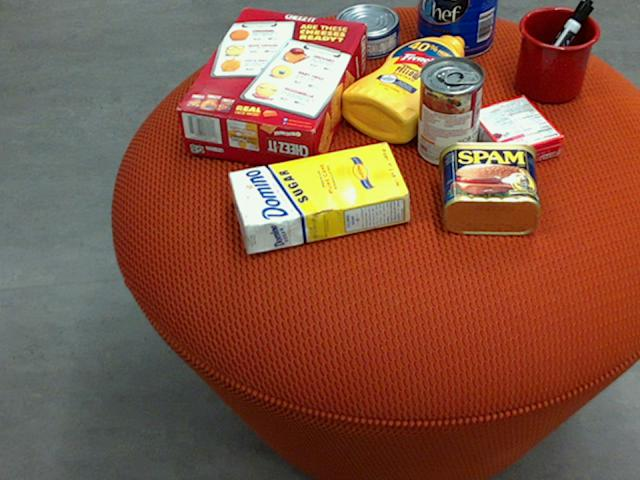cracker_box: (174, 7, 367, 173)
gelatin_box: (469, 96, 565, 170)
large_marker: (523, 0, 593, 91)
master_chef_can: (416, 0, 498, 56)
mug: (515, 6, 600, 102)
mustard_bottle: (340, 35, 464, 142)
potted_meat_can: (437, 141, 539, 234)
sugar_box: (226, 140, 410, 254)
tomato_soup_can: (418, 54, 482, 165)
tuna_fish_can: (334, 3, 399, 56)
